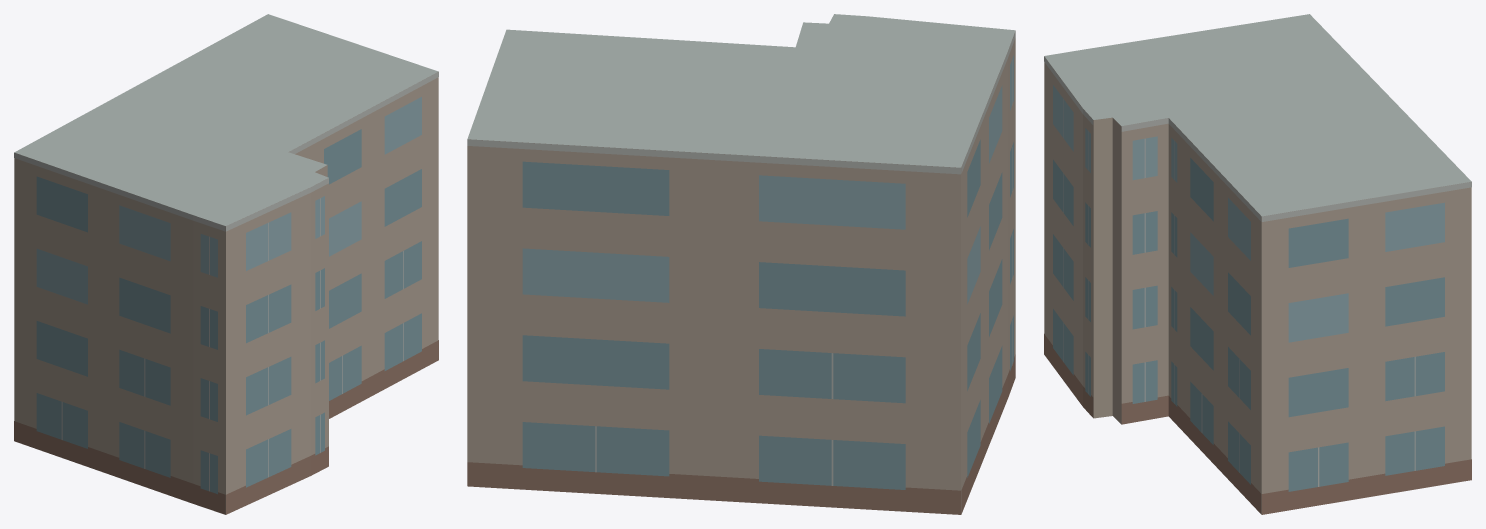
Rendered from survey-upis-32476523.glb.
3 renders of one model, left to right at view 1: azimuth 30°, elevation 25°; view 2: azimuth 150°, elevation 25°; view 3: azimuth 270°, elevation 25°, orthographic. The views are drawn at different scales.
Visible parts, largest first — view 1: survey-upis-32476523.tmp; view 2: survey-upis-32476523.tmp; view 3: survey-upis-32476523.tmp.
Part boxes in pixels (<box>): survey-upis-32476523.tmp: <box>14,14,438,514</box>; survey-upis-32476523.tmp: <box>467,14,1015,514</box>; survey-upis-32476523.tmp: <box>1044,14,1471,514</box>.
Bounding box in the file's own units: 18.64 × 12.8 × 16.64.
